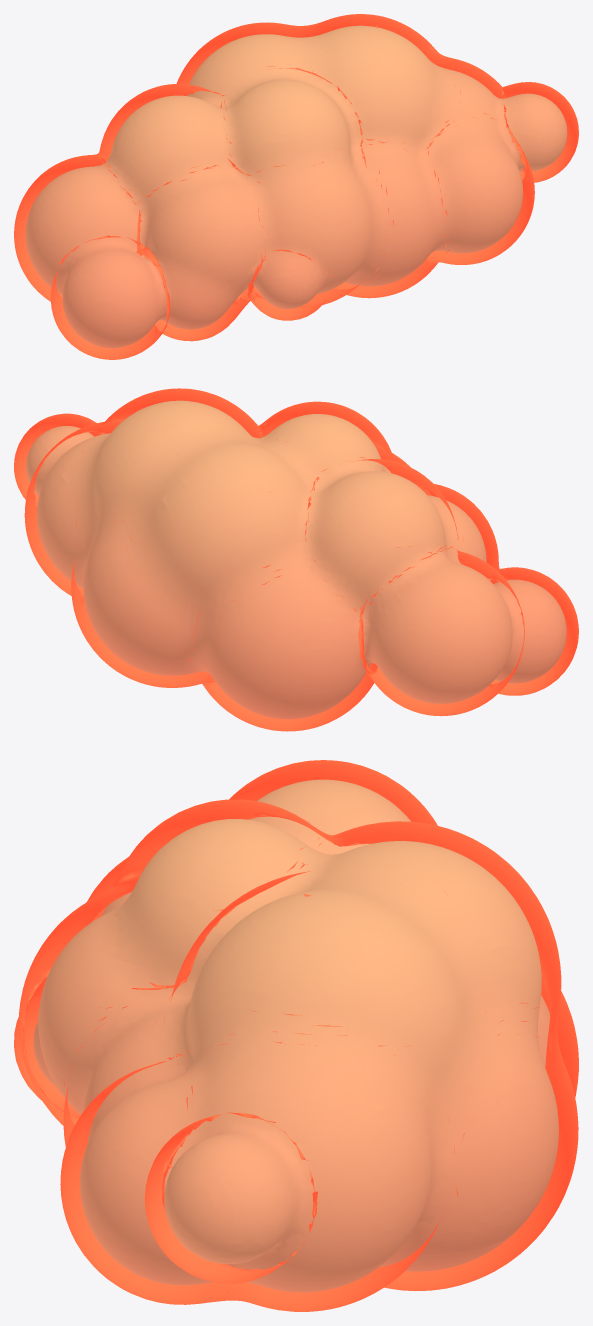
Rendered from cloud_big.glb.
3 views of the same model, one above another, from view 1: azimuth 30°, elevation 25°; view 2: azimuth 150°, elevation 25°; view 3: azimuth 270°, elevation 25° (orthographic). The views are drawn at different scales.
Visible parts, largest first — view 1: cloud_big; view 2: cloud_big; view 3: cloud_big.
Boxes of the visible parts, x1=… form: cloud_big: x1=14, y1=14, x2=578, y2=359; cloud_big: x1=14, y1=388, x2=578, y2=731; cloud_big: x1=14, y1=760, x2=578, y2=1311.
Bounding box in the file's own units: 1.03 × 0.4899 × 0.5826.
2 materials, 1 textured.
